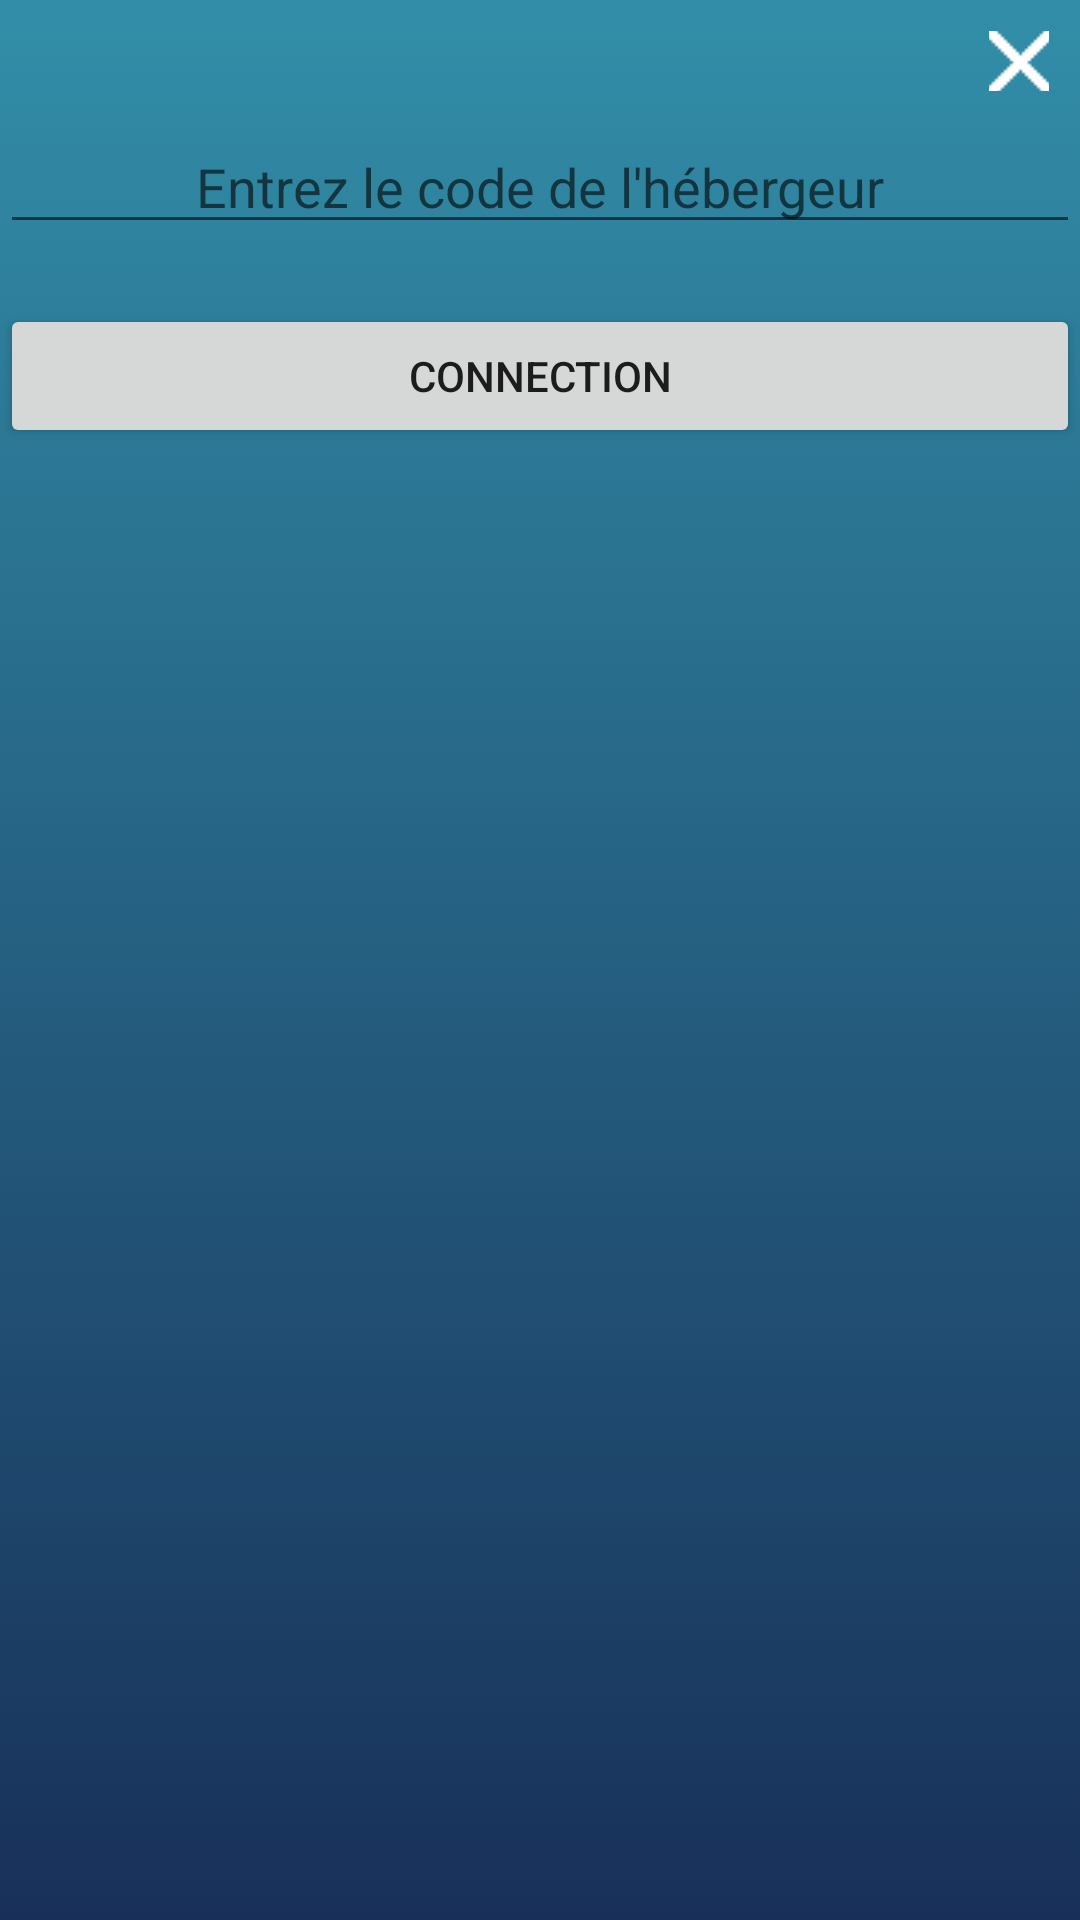

Where icons sit on this 1080px x 1920px app screen, as box=[x1, y1, x2, y2]:
exit: box=[989, 31, 1049, 91]
